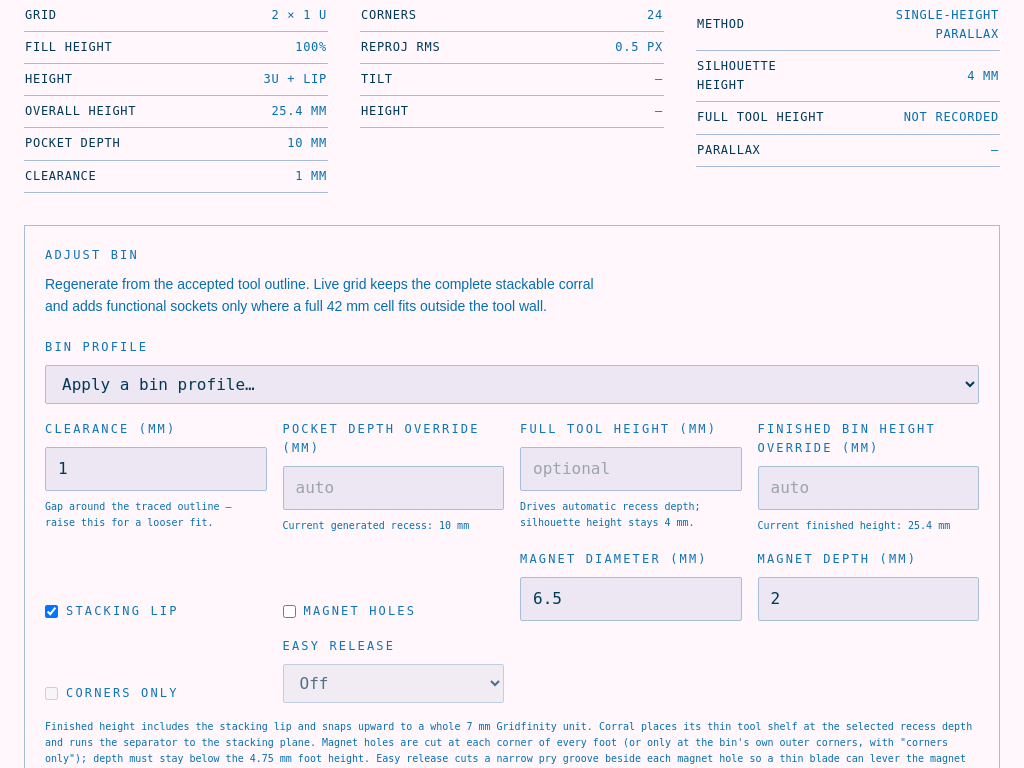
Scenario: Result page bin profile picker › applies a profile's fill height, lip, and magnet-hole defaults to the regenerate form
(page scrolled)
Expected: the checkbox labelled "Stacking lip" is checked, x1=45 y1=605 x2=58 y2=618
Expected: the checkbox labelled "Magnet holes" is not checked, x1=282 y1=605 x2=296 y2=618
Select "My Corral" in the dropdown labelled "Bin profile": point(512, 384) x1=45 y1=365 x2=979 y2=404
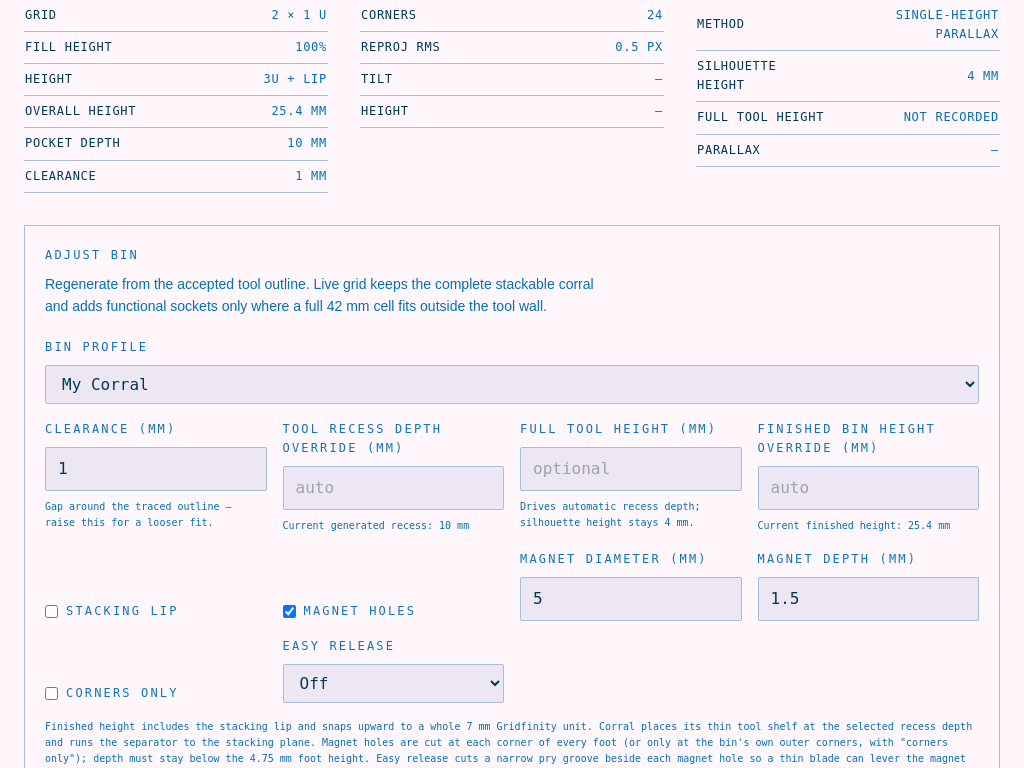
Expected: the checkbox labelled "Stacking lip" is not checked, x1=45 y1=605 x2=58 y2=618
Expected: the checkbox labelled "Magnet holes" is checked, x1=282 y1=605 x2=296 y2=618
Expected: the number field named "Magnet hole diameter" holds "5", x1=520 y1=577 x2=742 y2=621
